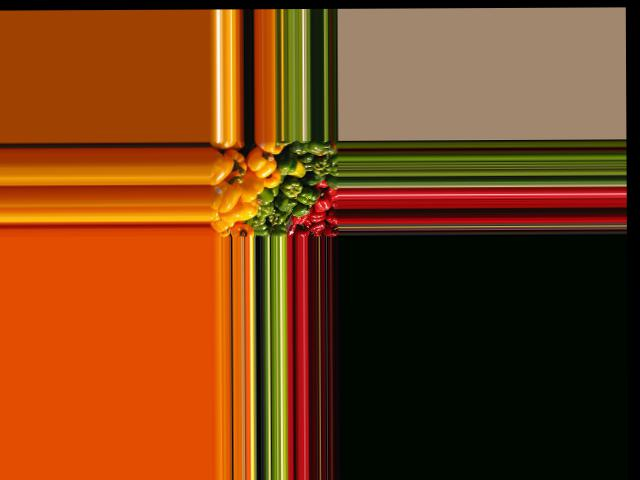bell_pepper: (315, 139, 337, 156)
